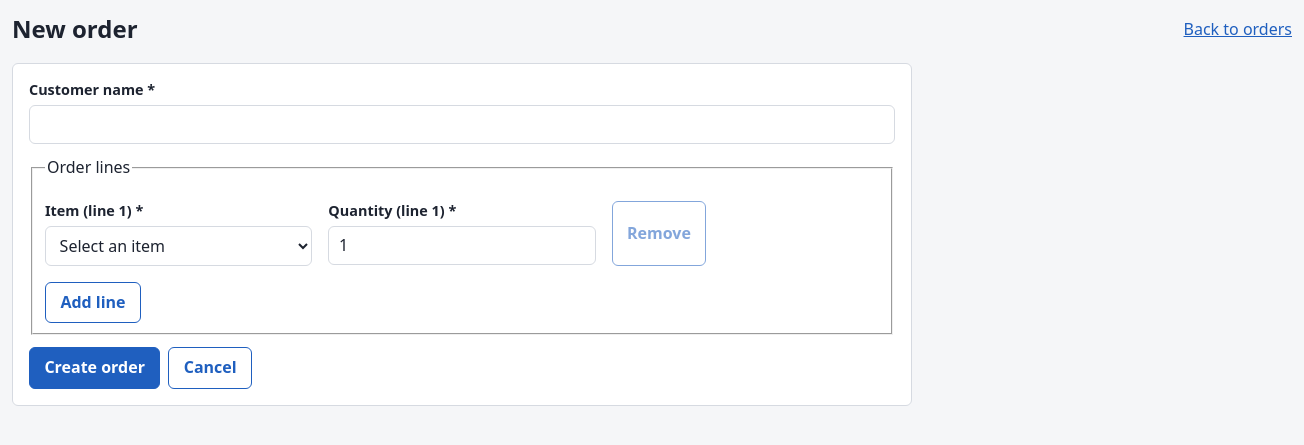
Test: CreateOrderPage › rejects quantities that are not whole numbers of at least 1
In the field labelled "Customer name *": (462, 124) [29,105,895,144], type "Acme Ltd"
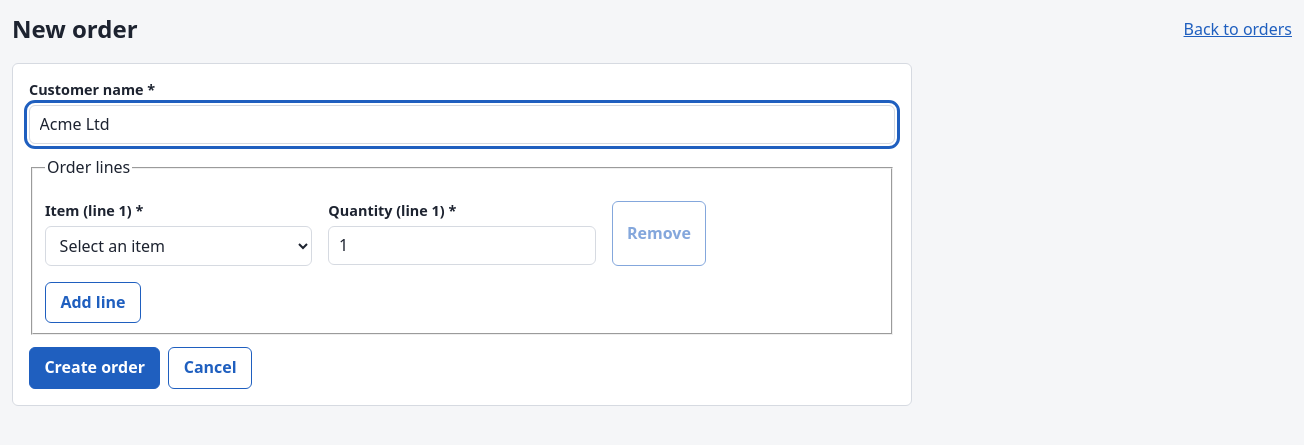
Select "BOLT-10 — Bolt" in the dropdown labelled "Item (line 1) *": (179, 246) [45,226,312,266]
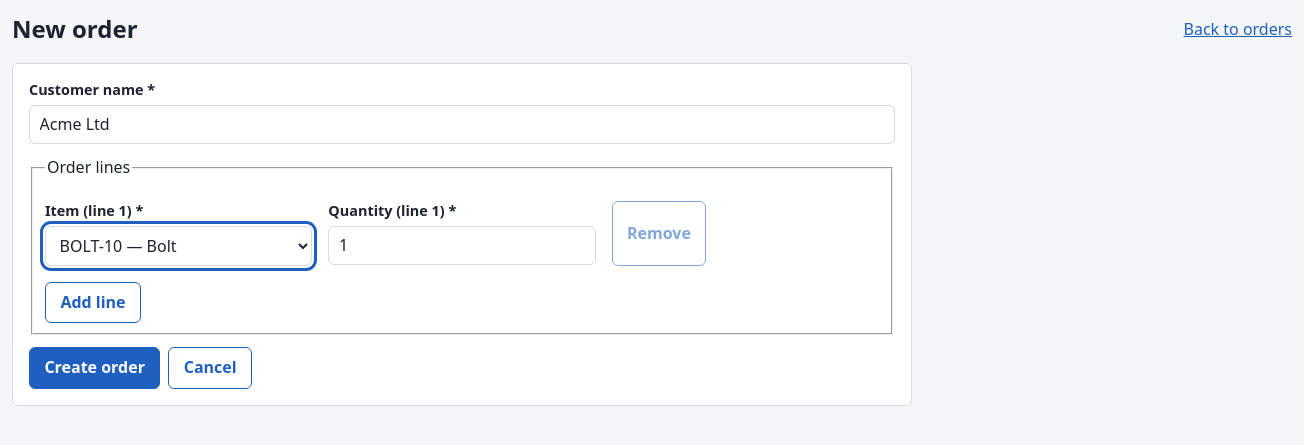
Replace the text in the field labelled "Quantity (line 1) *" with "0": (462, 246) [328,226,596,266]
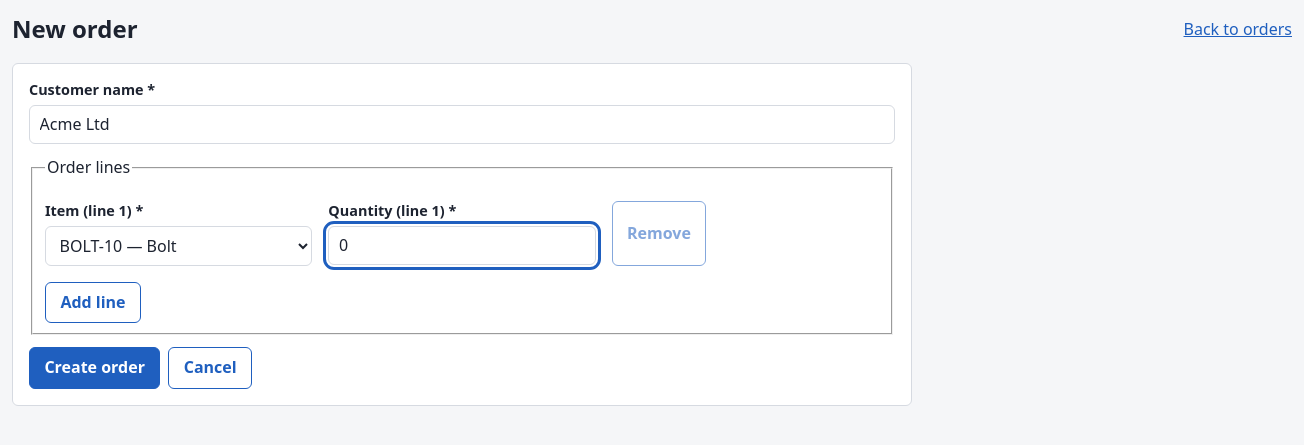
Click the button "Create order": click(95, 368) [29,348,160,389]
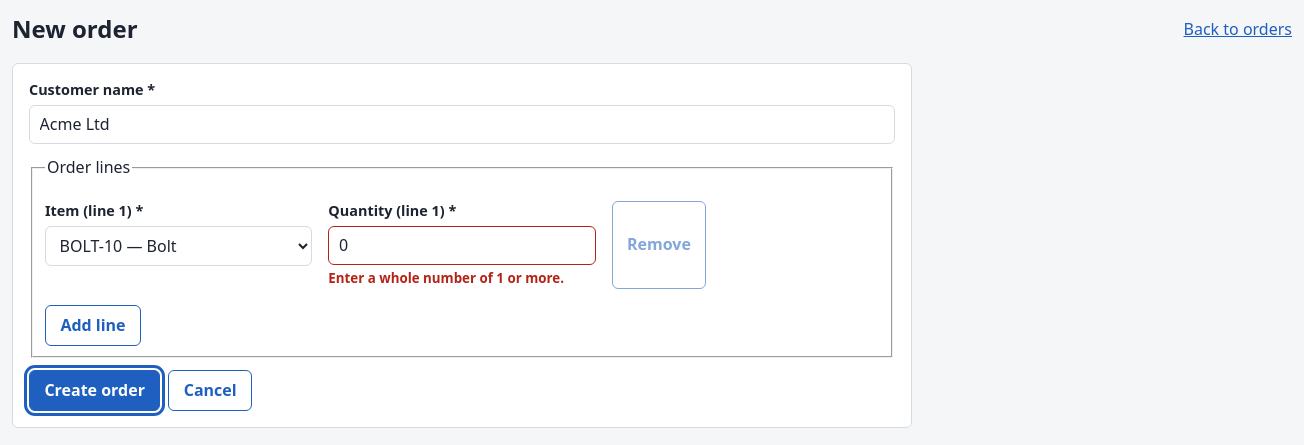
Now the text "Enter a whole number of 1 or more." is shown, box [328,270,596,289]
